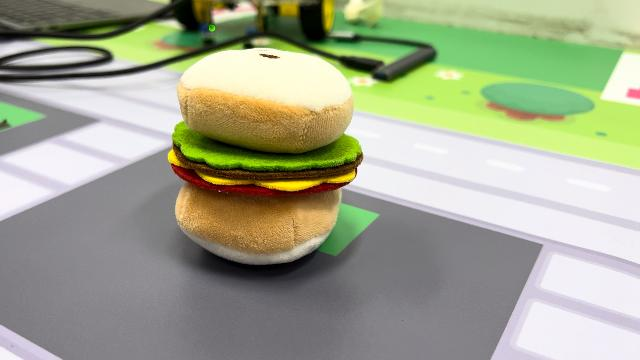sandwich: (167, 45, 365, 267)
